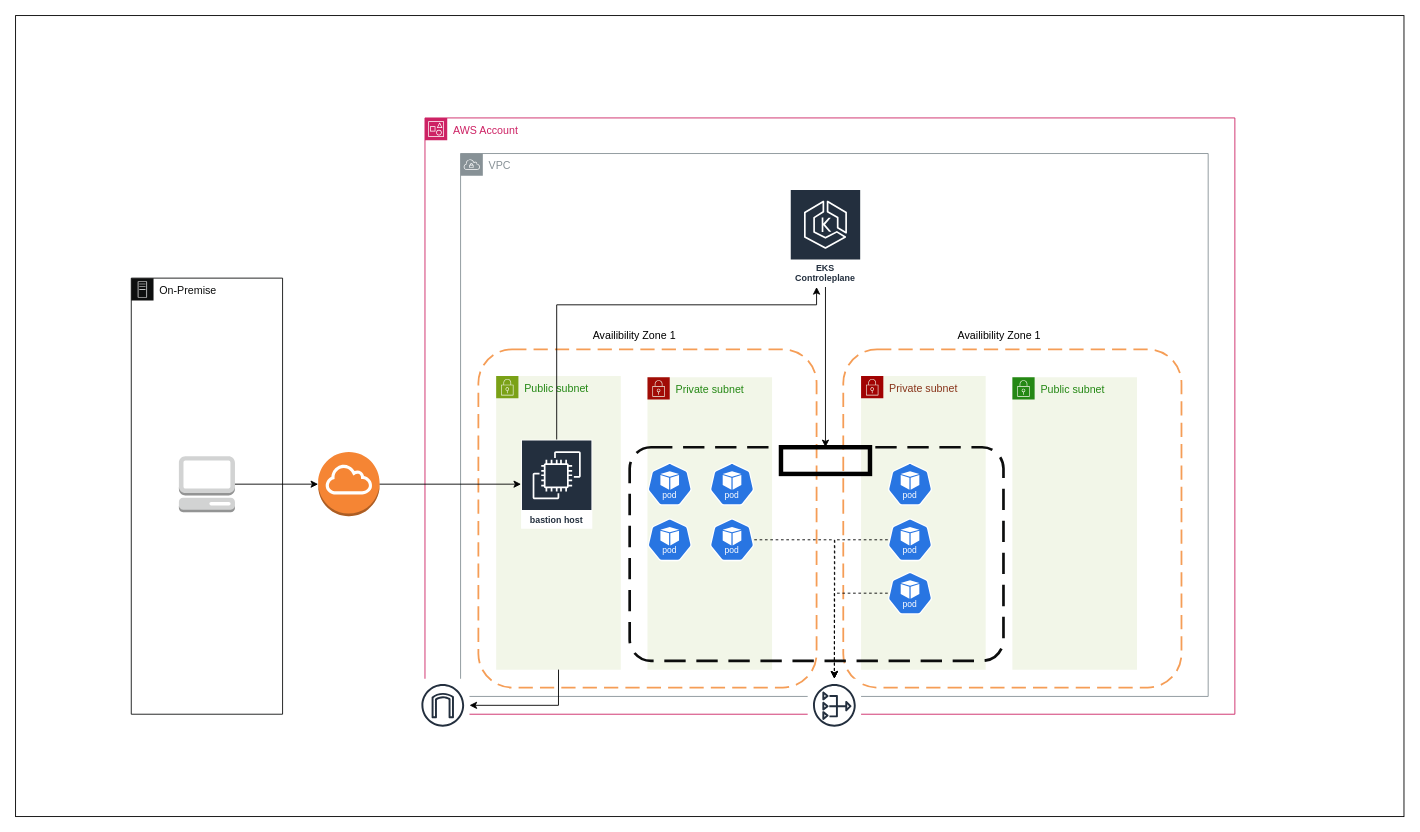
The diagram is 1420 pixels wide and 832 high, and some of its shapes have lost their labels. Here are the shapes that lost their labels. From the top down, the centre of each, then its label:
At [825,460]: "Node Group 1".
At [206,483]: "client".
At [348,483]: "internet".
At [442,705]: "Internet gateway".
At [834,705]: "NAT gateway".
